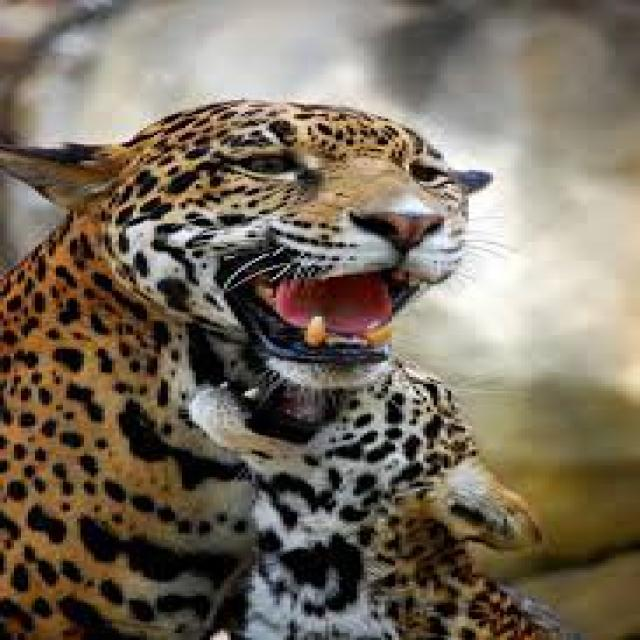Jaguar: (133, 360, 633, 640), (11, 93, 524, 358)
